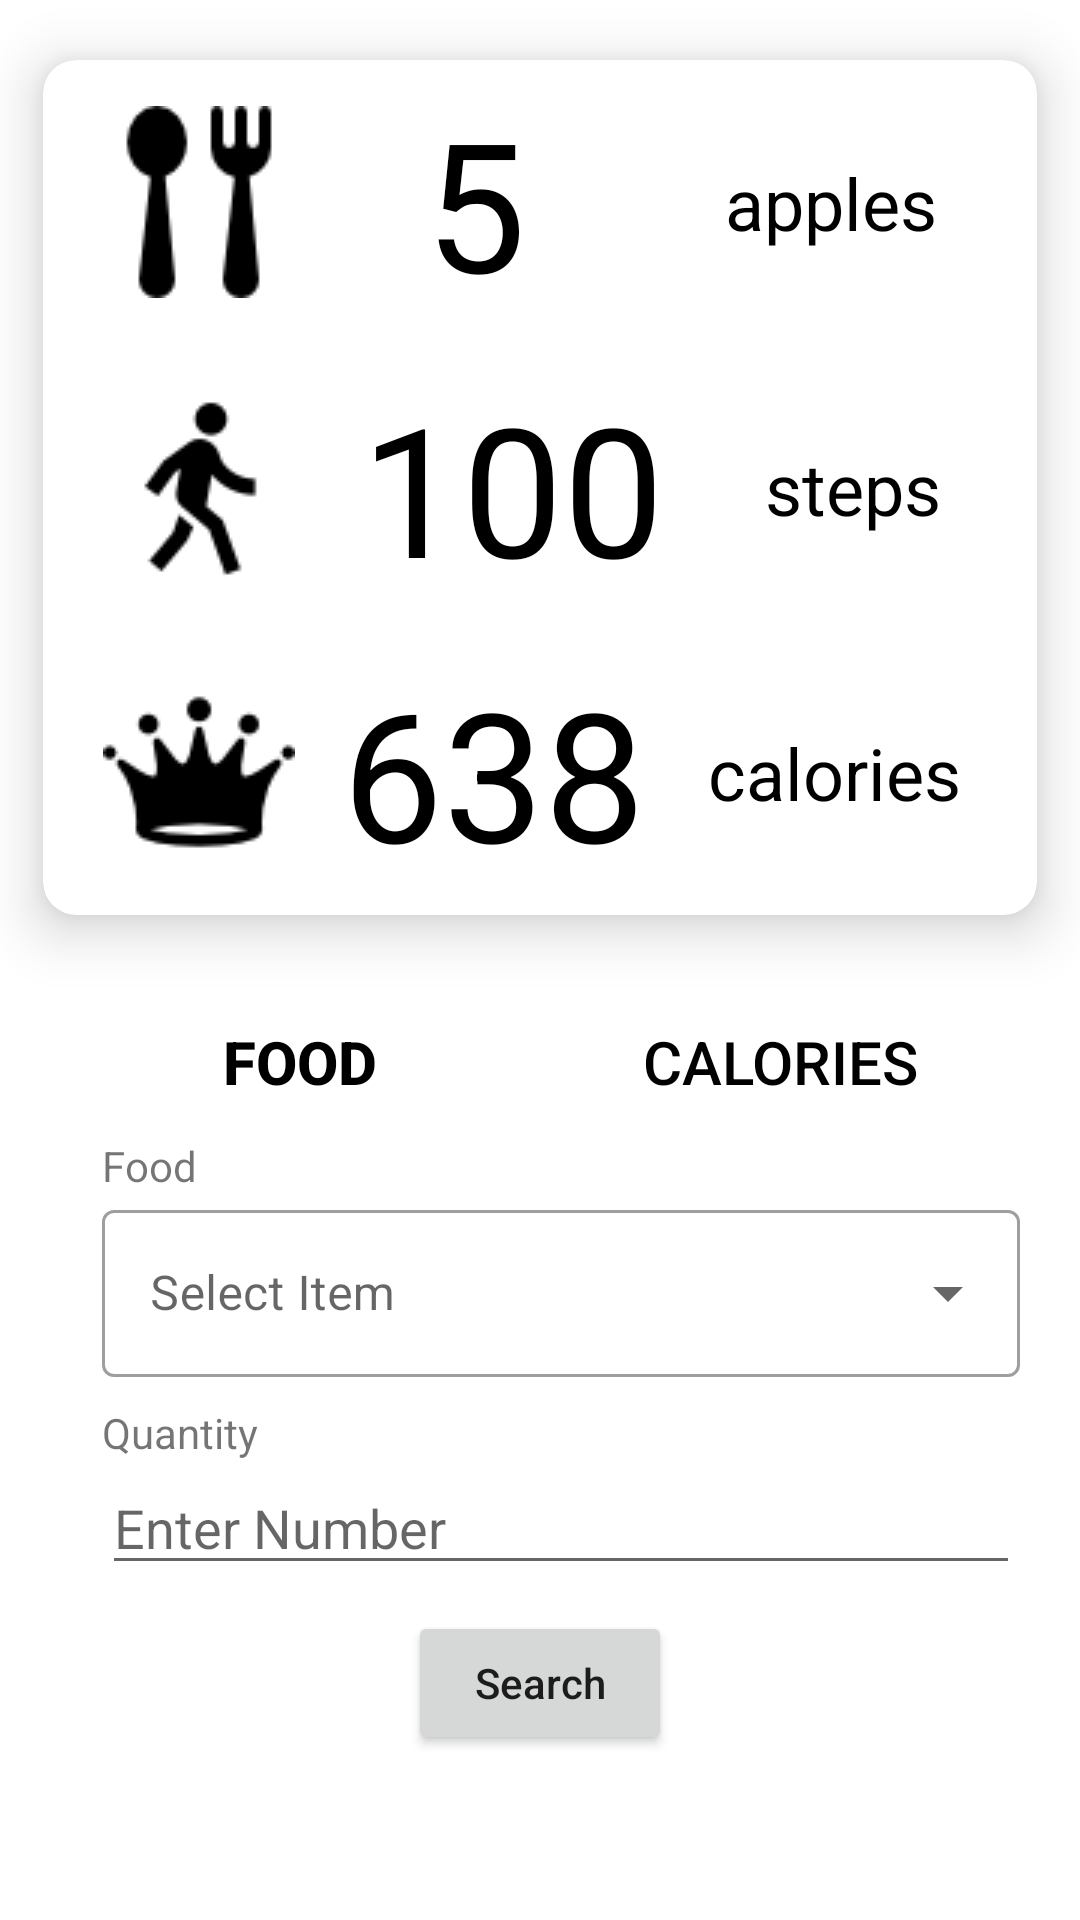

Icons on this 1080 x 1920 Android screen, each with its box as [x1=x1, y1=y1, x2=x2, y2=y2]:
crown: [x1=103, y1=696, x2=295, y2=848]
cutlery: [x1=126, y1=106, x2=272, y2=298]
walking: [x1=144, y1=402, x2=257, y2=575]
